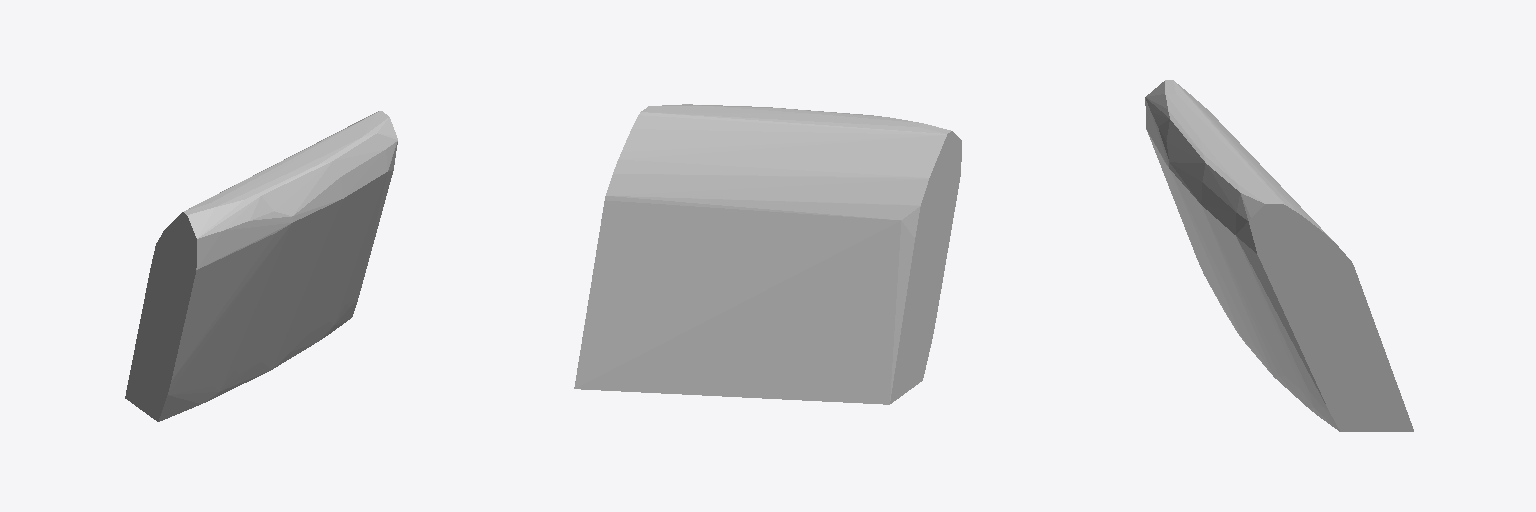
The model's file is pan_collision_29.obj.
The picture shows the model from 3 angles: view 1: azimuth 30°, elevation 25°; view 2: azimuth 150°, elevation 25°; view 3: azimuth 270°, elevation 25°; orthographic projection.
Size of the model in its own units: 0.0345 by 0.0299 by 0.0319.